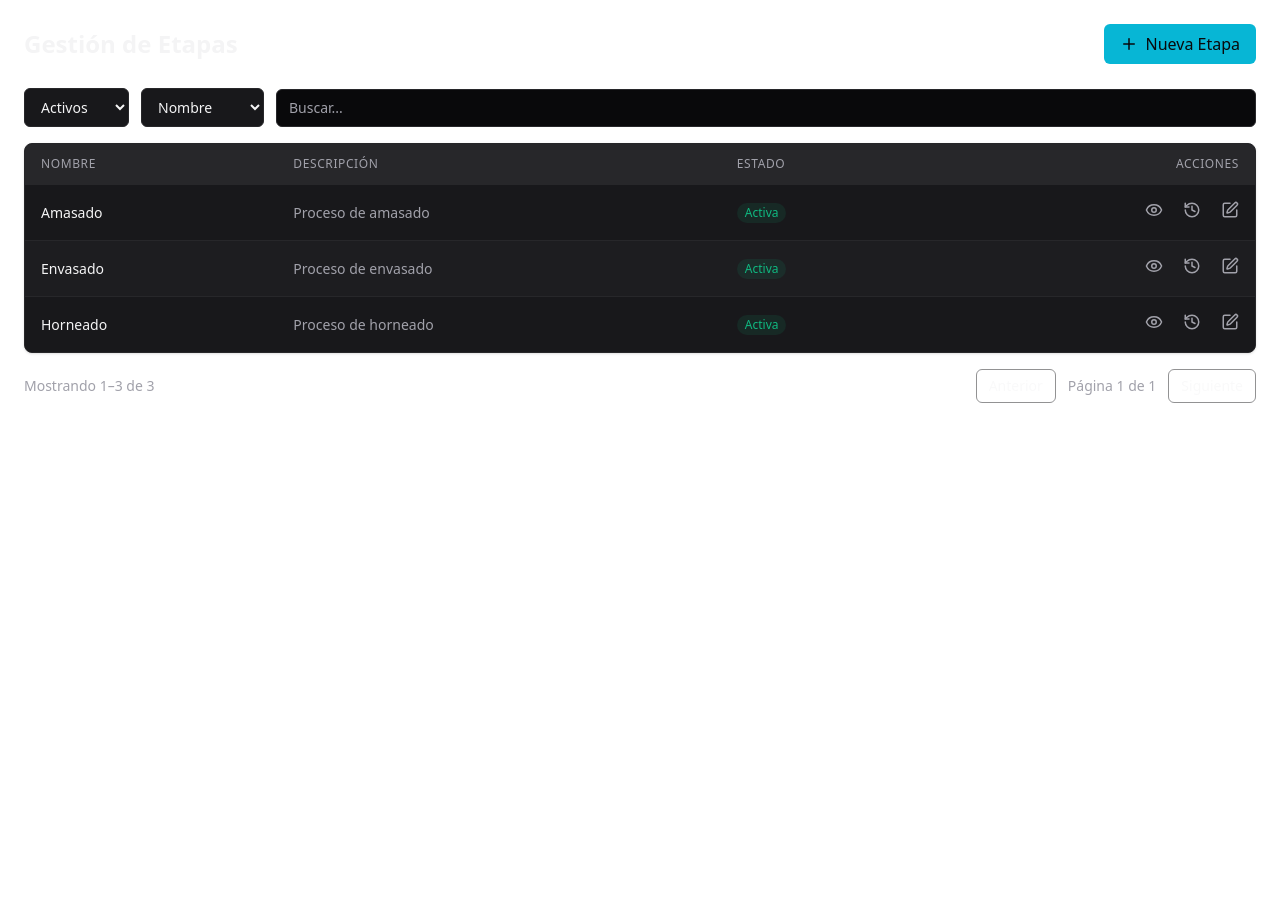
EtapasPage detail drawer › shows every field in full without opening the edit form, then jumps to the history
Expected: the text "Amasado" is shown, [25,184,277,240]
What coordinates should you click on to do the following:
click the button named "Ver detalle" in the row of "Proceso de amasado"
I would click on:
 (1154, 210)
Its box is [1145,201,1163,219].
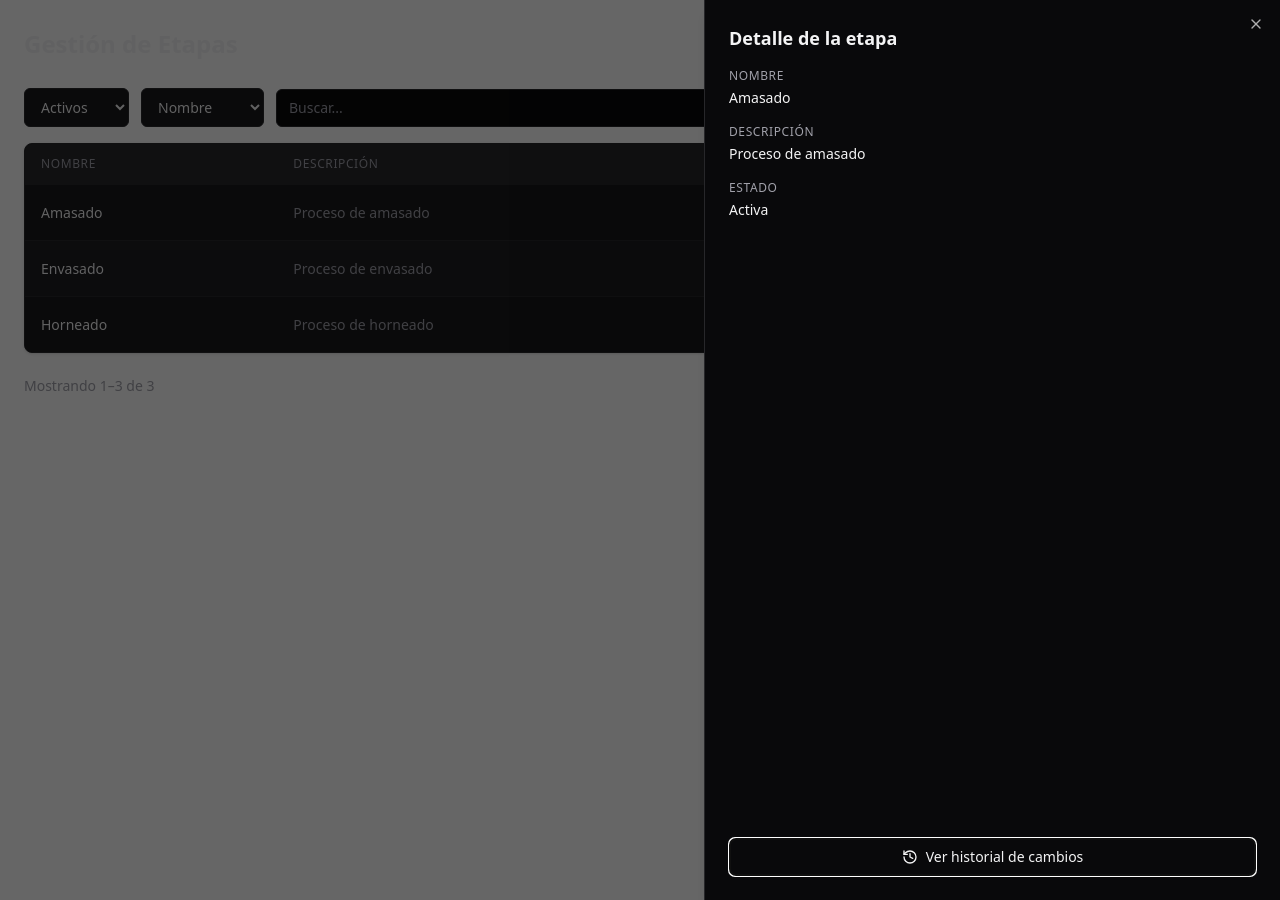
Result: the heading "Detalle de la etapa" is shown at [729,26,897,50]
Result: the text "Amasado" is shown once at [729,88,790,107]
Result: the text "Proceso de amasado" is shown at [729,144,866,163]
What coordinates should you click on to do the following:
click the button "Ver historial de cambios"
I would click on:
 (992, 857)
Its box is [729,838,1256,876].
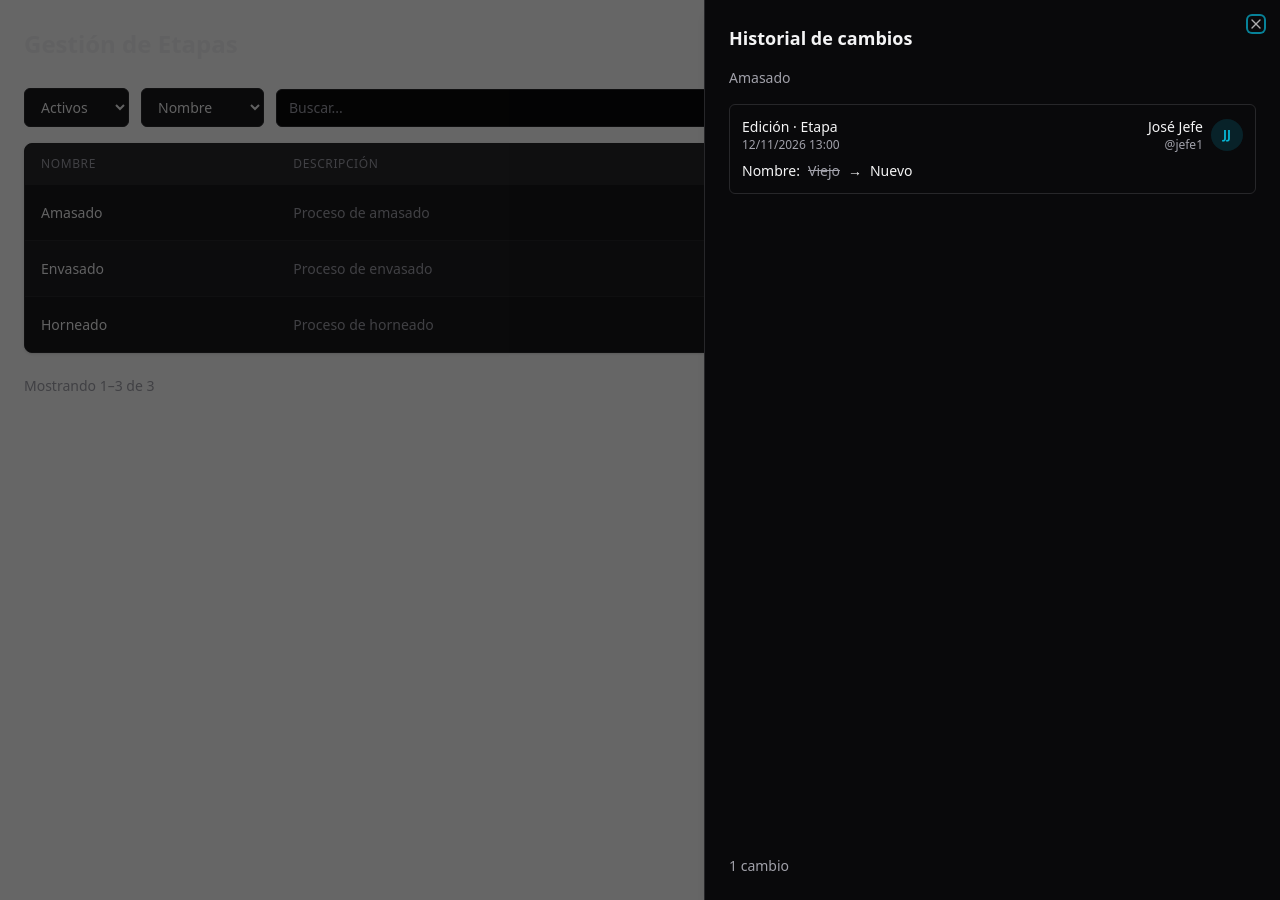
Result: the text "José Jefe" is shown at [1148,117,1203,137]
